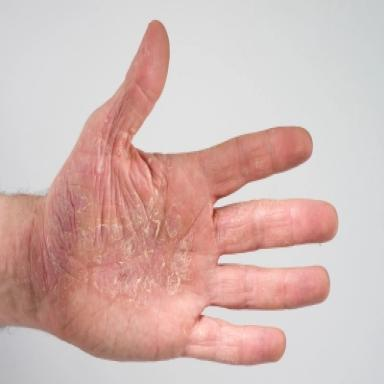eczema: (46, 188, 191, 305)
